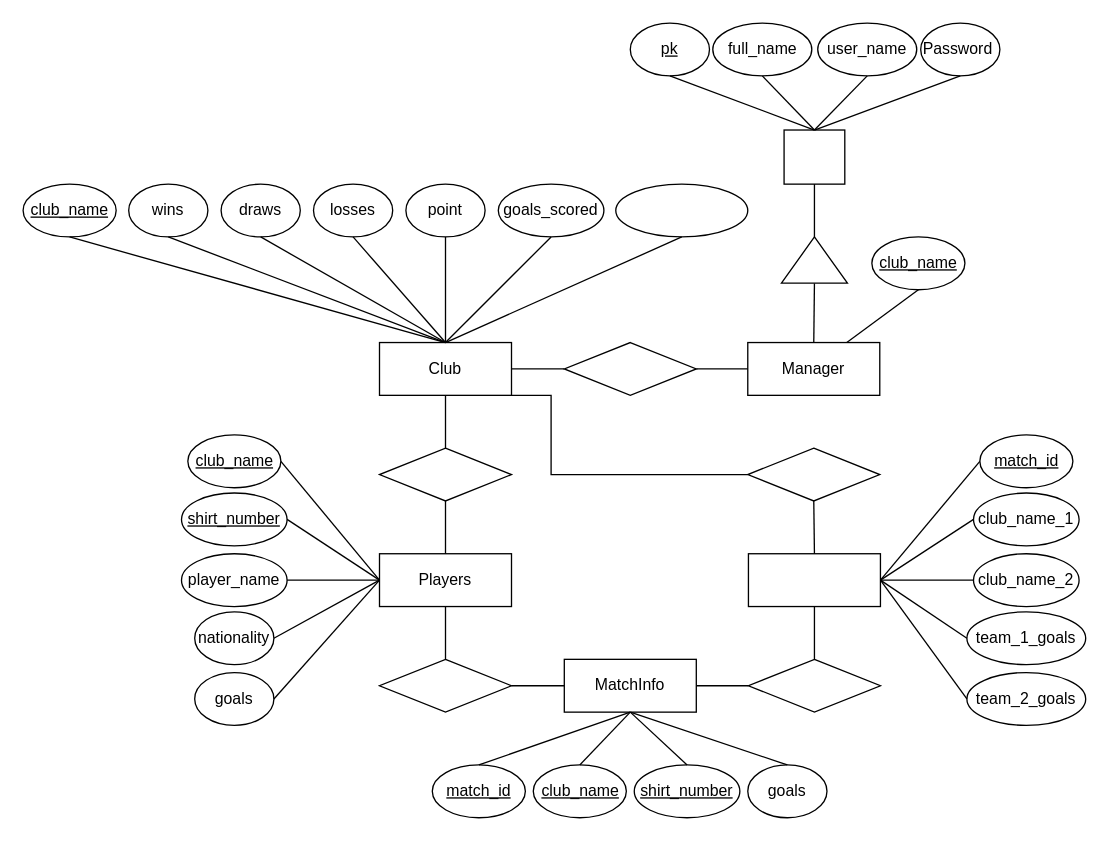
Image size: 1109x841. Some labels were removed from this diagram. Here are the shapes that lost their labels. From the top down, the box of each, then its label:
(783, 129, 845, 184): Users
(614, 183, 748, 237): goals_conceded
(780, 236, 847, 283): ISA
(563, 341, 696, 395): manages
(378, 447, 512, 501): plays for
(746, 447, 880, 501): vs
(747, 552, 880, 607): Match
(378, 658, 512, 712): contributes
(747, 658, 880, 712): belongs to
